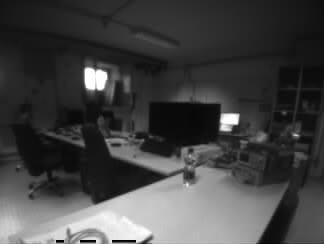Bottle: (183, 149, 196, 185)
